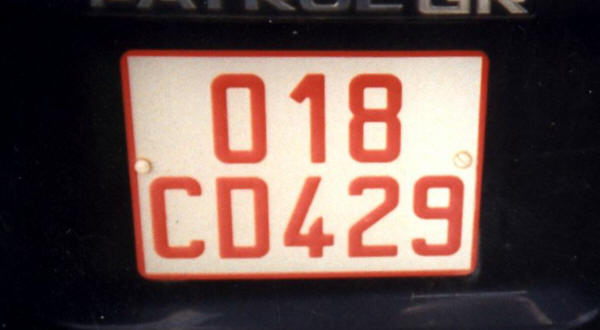license_plate: (120, 50, 488, 278)
